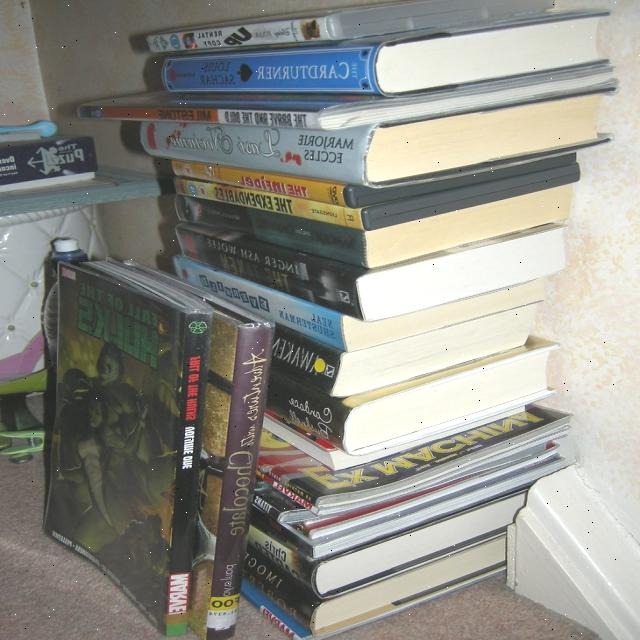book: (42, 265, 180, 634), (203, 325, 274, 634), (182, 229, 362, 319), (177, 199, 367, 270), (168, 316, 206, 634), (150, 48, 379, 91), (175, 178, 366, 229), (177, 162, 351, 206), (142, 15, 335, 52), (80, 107, 318, 126)
